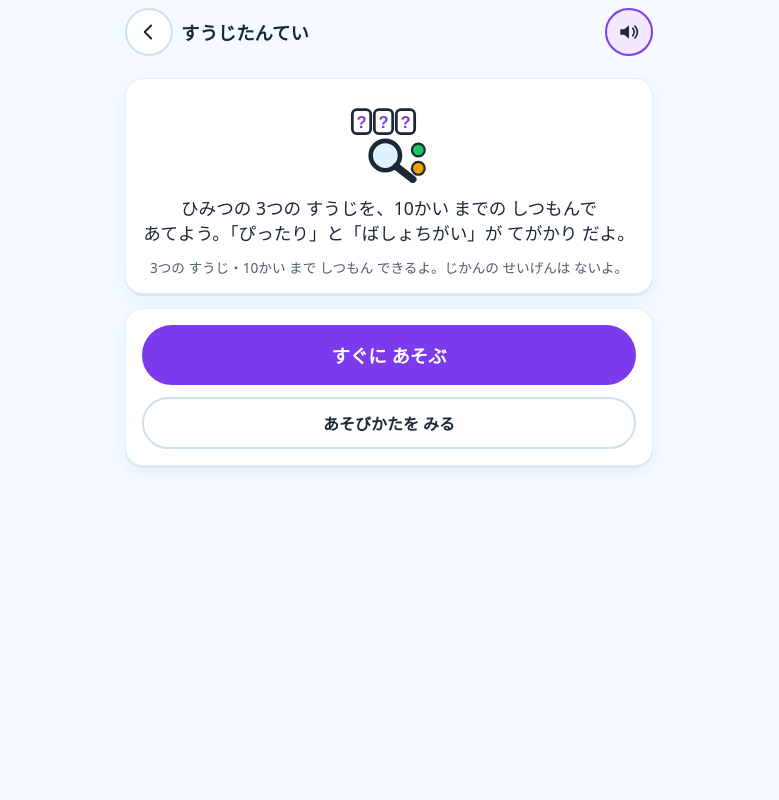
Scenario: 31 すうじたんてい（画面）：はじめる まえ › むずかしさの 選択は 出ない。あそびかたは 自動で 出ず、「すぐに あそぶ」で すぐ はじまる
Check: the button "あそびかたを みる" is shown, box [142, 397, 636, 449]
What coordinates should you click on to do the following:
click the button "すぐに あそぶ"
I would click on:
 (389, 355)
Its box is [142, 325, 636, 385].
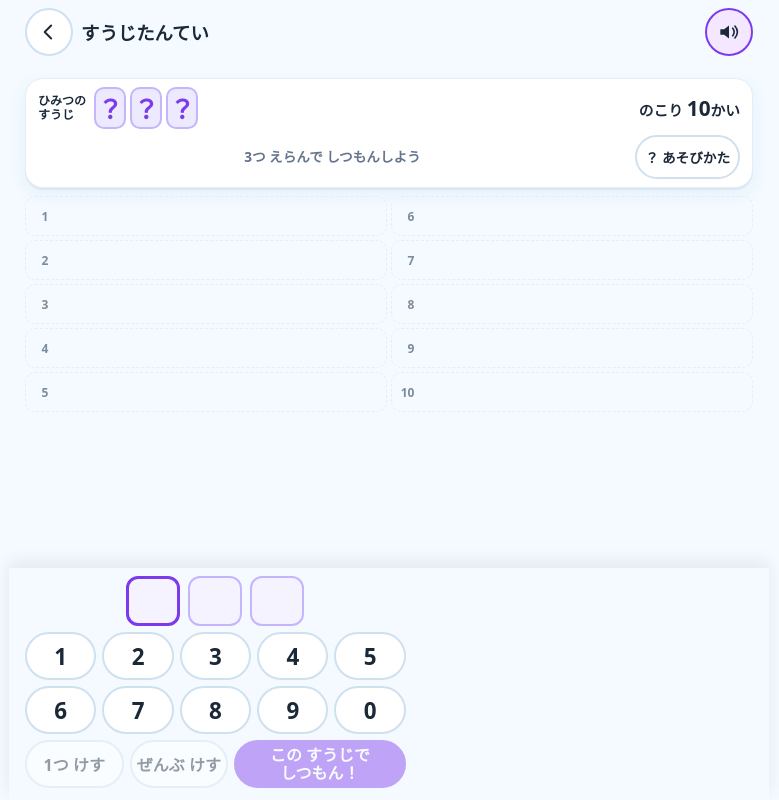
Check: the element named "すうじボタン" is shown, box [25, 632, 406, 734]
Check: the element with test id "detective-left" shows "10", box [687, 94, 711, 122]
